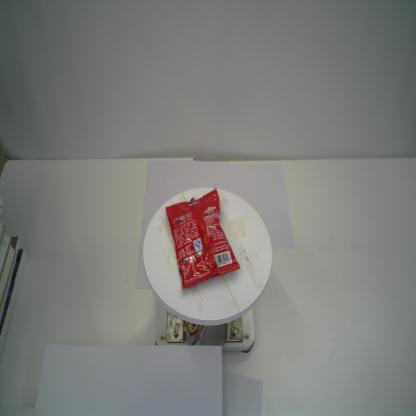Instant Drink: (164, 186, 242, 291)
